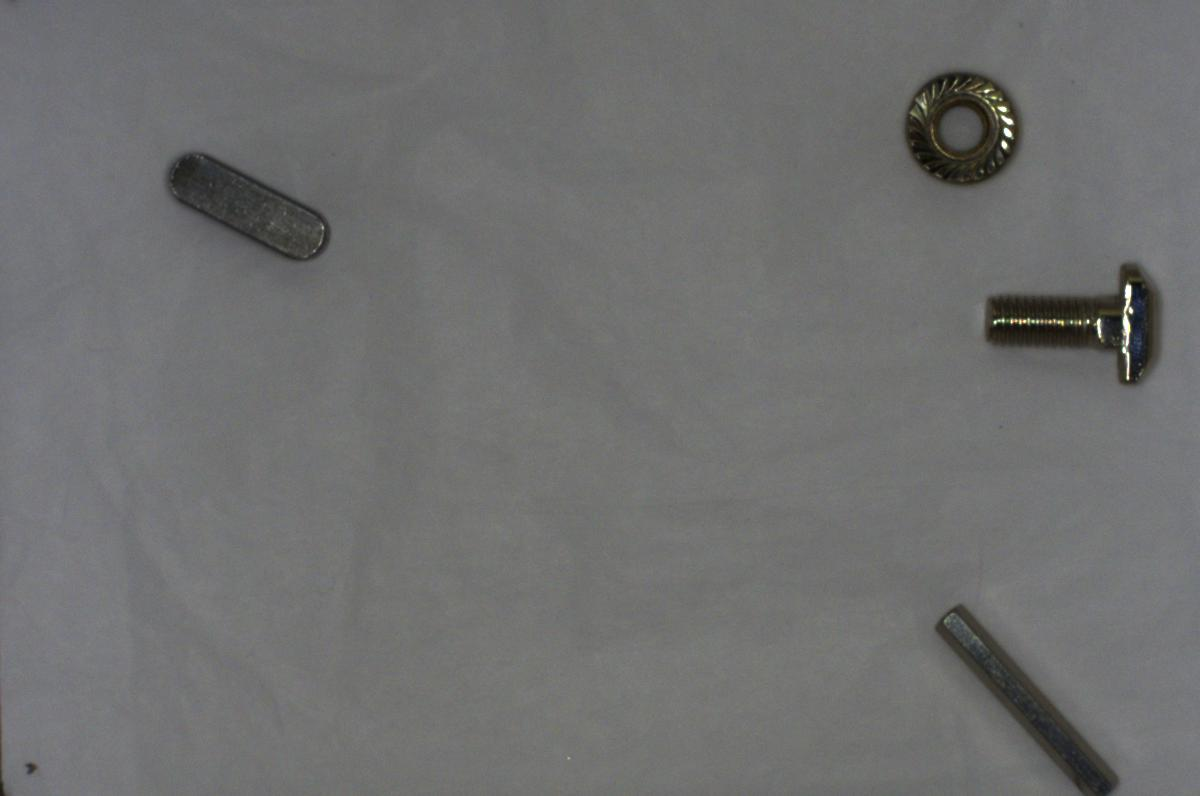Double hexagonal column: (912, 592, 1120, 795)
Flange nut: (892, 66, 1024, 188)
Keybar: (162, 146, 330, 265)
T-shaped screw: (975, 256, 1175, 395)
